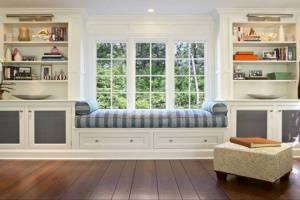window: (90, 36, 210, 112)
